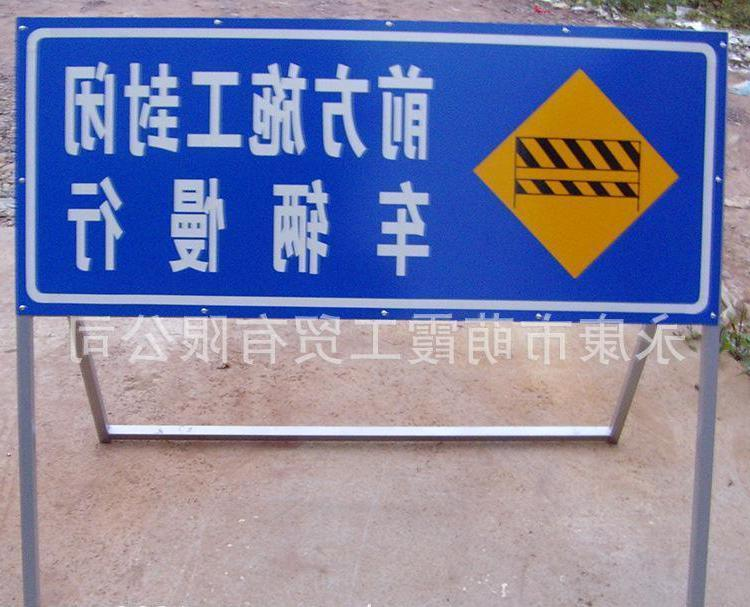sign: (19, 30, 725, 321)
